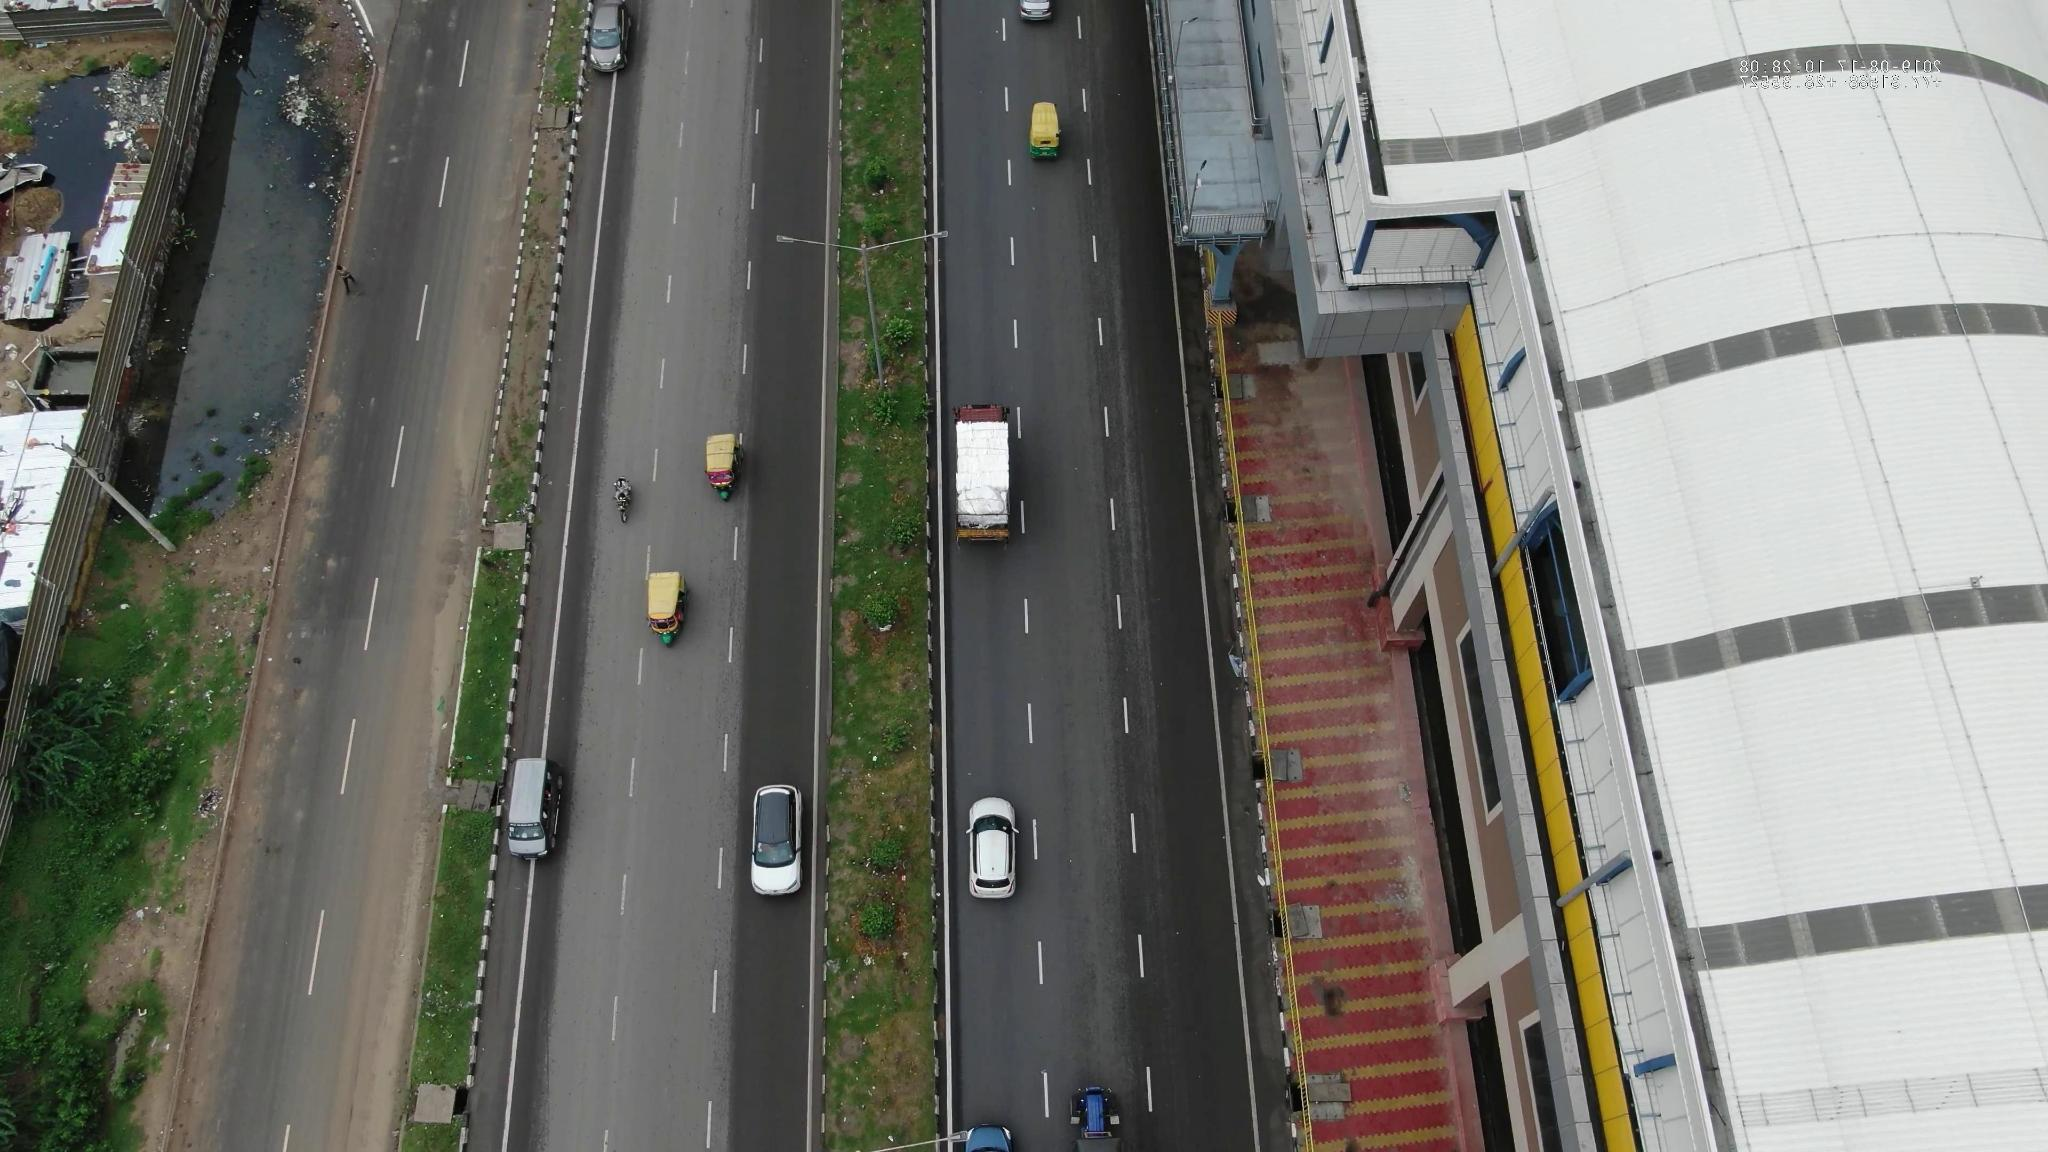Potholes: (293, 398, 352, 570), (252, 665, 316, 819)
Waterlogging: (416, 560, 467, 755)
